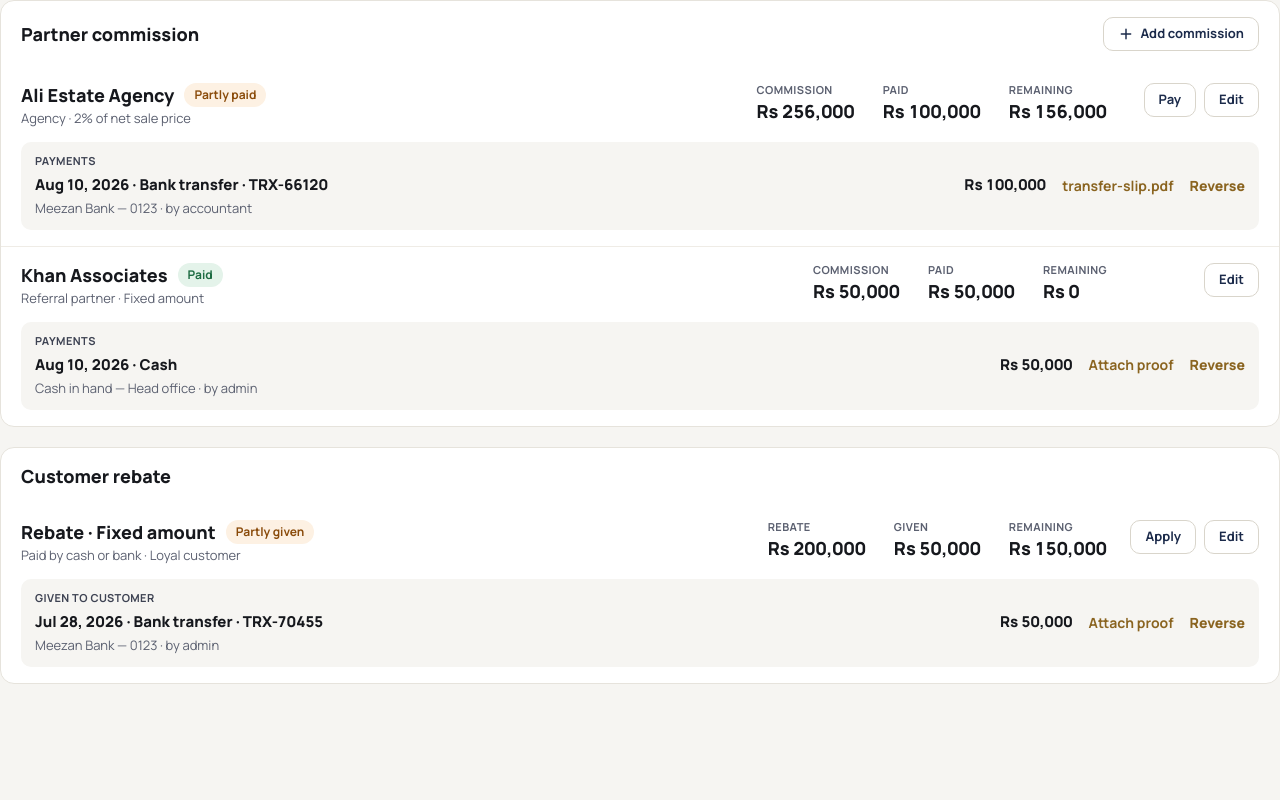
Commission & rebate tab › keeps the confirm box open with the server's message when the reversal is refused
The image size is (1280, 800).
Expected: the heading "Ali Estate Agency" is shown, [21,83,174,107]
Click the button "Reverse" in the row of "Aug 10, 2026 · Bank transfer · TRX-66120".
click(1217, 186)  # box [1190,176,1245,196]
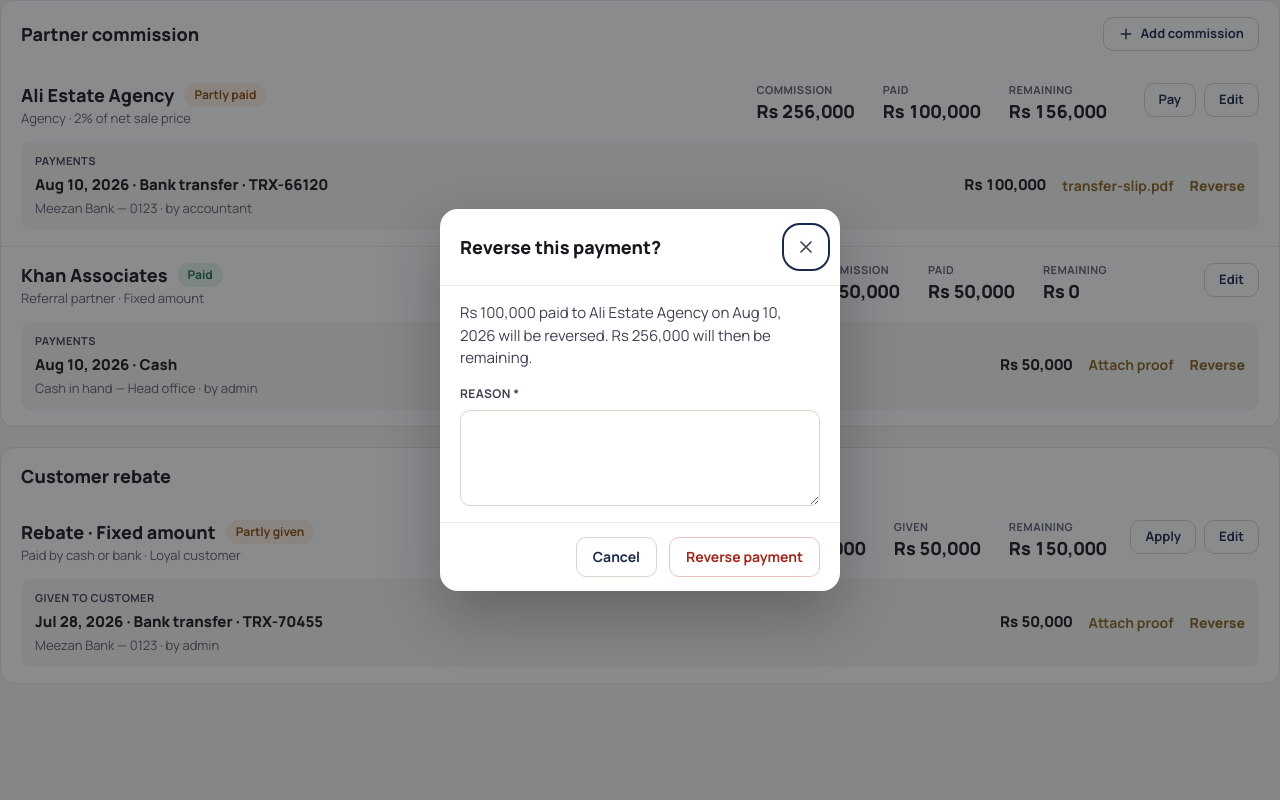
Type "Mistake" into the text box labelled "Reason *".
click(640, 458); type("Mistake")  # box [460,410,820,506]
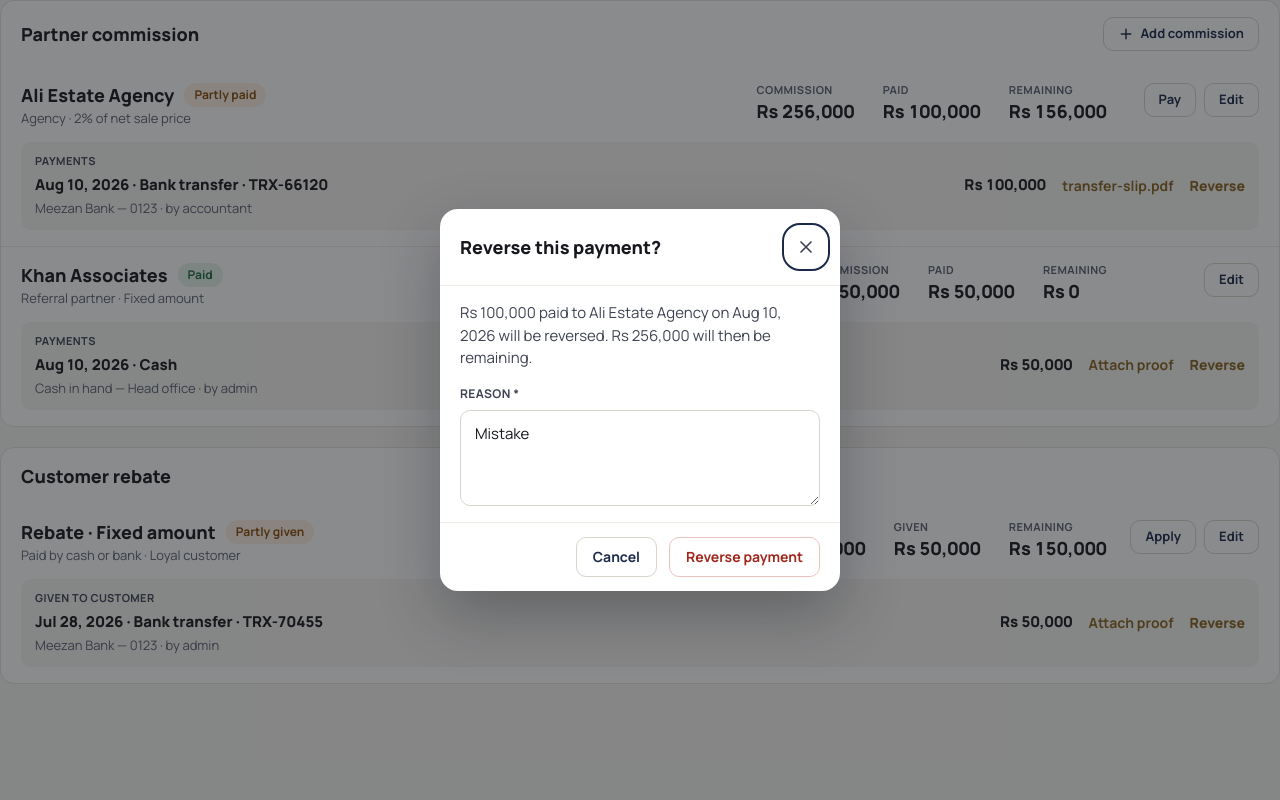
Click the button "Reverse payment".
click(744, 556)  # box [669,536,820,576]
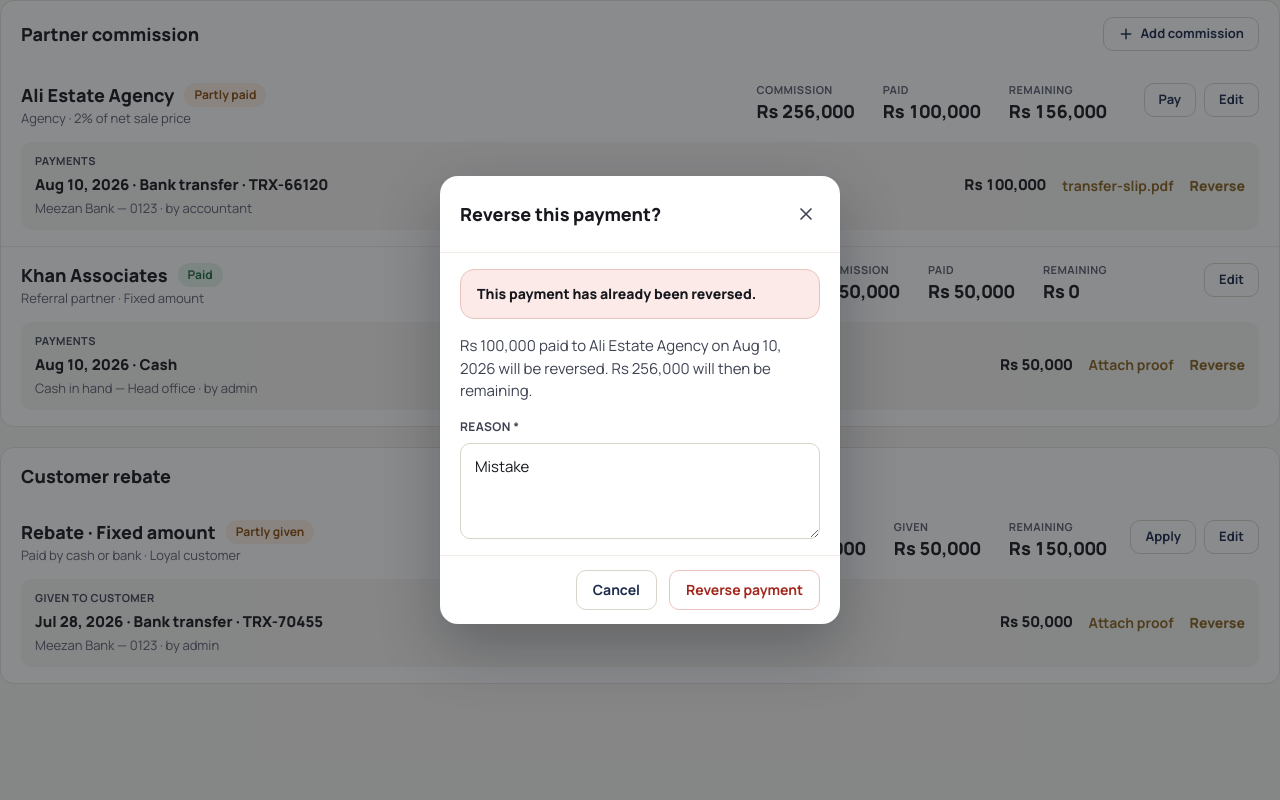
Now the text "This payment has already been reversed." is shown, box [477,284,803,304]
